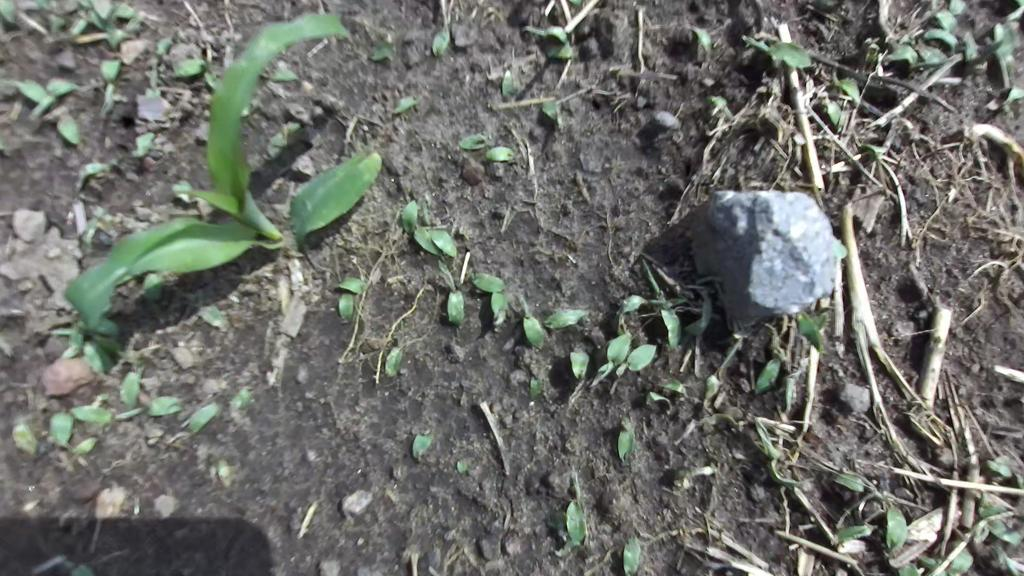BroWeed: (734, 418, 820, 506), (19, 59, 103, 121), (588, 324, 639, 395), (409, 200, 466, 263), (501, 285, 552, 353), (736, 32, 815, 74), (604, 282, 662, 335), (881, 39, 949, 84), (63, 146, 120, 195), (77, 325, 129, 377), (948, 25, 1002, 73), (755, 322, 789, 398), (185, 285, 232, 339), (42, 100, 92, 150), (609, 338, 664, 383), (437, 256, 469, 329), (826, 62, 870, 110), (0, 66, 51, 107), (47, 318, 94, 361), (182, 395, 229, 437), (561, 345, 592, 408), (900, 31, 950, 70), (683, 285, 718, 339), (655, 295, 687, 353), (135, 388, 187, 423), (73, 2, 121, 39), (995, 21, 1024, 82), (566, 470, 588, 549), (922, 22, 968, 59), (114, 361, 148, 411), (683, 18, 716, 69), (789, 310, 828, 353), (542, 301, 592, 334), (635, 257, 669, 305), (670, 459, 720, 491), (695, 366, 727, 416), (10, 404, 40, 457), (96, 58, 121, 120), (126, 125, 170, 160), (407, 219, 442, 263), (109, 1, 161, 30), (828, 517, 878, 547), (119, 342, 164, 375), (202, 452, 243, 488), (819, 93, 854, 135), (835, 532, 879, 565), (972, 484, 1010, 521), (349, 36, 397, 65), (269, 115, 305, 153), (934, 546, 979, 576), (652, 369, 695, 400), (226, 384, 256, 428), (519, 18, 570, 43), (883, 504, 907, 557), (70, 406, 144, 423), (984, 449, 1022, 482), (824, 469, 874, 494), (467, 269, 509, 297), (176, 187, 215, 217), (104, 19, 139, 52), (404, 427, 437, 462), (704, 87, 739, 120), (699, 410, 747, 434), (329, 271, 370, 298), (85, 201, 125, 228), (167, 55, 209, 80), (48, 407, 74, 447), (932, 5, 963, 37), (642, 388, 677, 416), (65, 433, 102, 459), (262, 78, 298, 104), (35, 9, 68, 37), (139, 416, 170, 445), (617, 415, 636, 462), (78, 214, 99, 256), (970, 520, 993, 558), (392, 90, 424, 117), (262, 60, 301, 82), (622, 535, 642, 576), (457, 130, 496, 151), (489, 290, 511, 326), (143, 54, 161, 97), (541, 99, 563, 134), (118, 213, 151, 235), (142, 271, 164, 304), (213, 457, 235, 489), (197, 62, 221, 91), (544, 40, 580, 59), (431, 24, 451, 58), (383, 345, 403, 379), (96, 217, 118, 247), (806, 299, 831, 324), (856, 30, 881, 55), (984, 516, 1010, 540), (154, 32, 176, 60), (859, 139, 886, 161), (400, 199, 418, 232), (497, 68, 517, 97), (337, 290, 354, 324), (132, 206, 162, 225), (156, 137, 179, 161), (452, 451, 474, 476), (89, 388, 111, 411), (261, 141, 284, 163), (864, 40, 882, 67), (1003, 103, 1018, 134), (90, 0, 113, 20), (64, 561, 94, 576), (485, 146, 515, 161), (76, 188, 102, 205), (69, 15, 89, 37), (916, 556, 944, 571), (0, 0, 16, 24), (972, 59, 992, 78), (832, 234, 847, 259), (898, 563, 925, 576), (948, 0, 968, 17), (529, 375, 541, 400), (48, 0, 66, 14), (126, 18, 144, 32), (172, 179, 191, 191), (132, 494, 142, 516), (424, 189, 434, 208), (34, 0, 52, 10), (113, 93, 130, 103), (966, 567, 982, 576), (146, 437, 160, 446), (566, 0, 582, 7), (662, 388, 672, 396)
